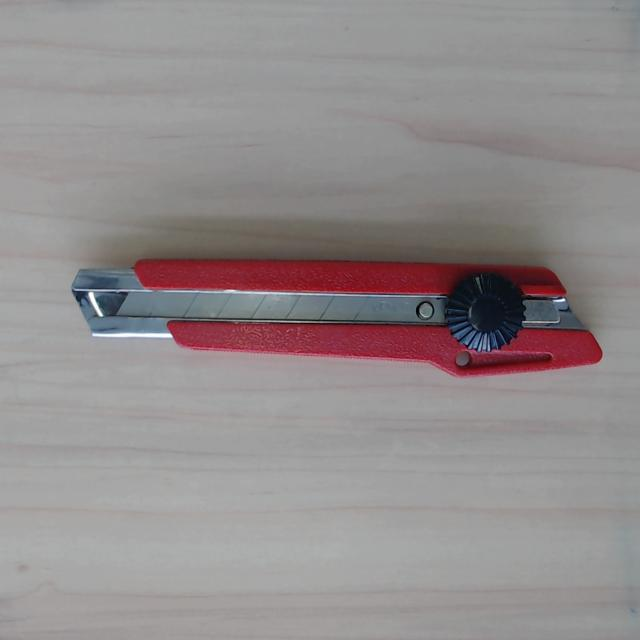Cutter-Besar: (70, 252, 605, 381)
